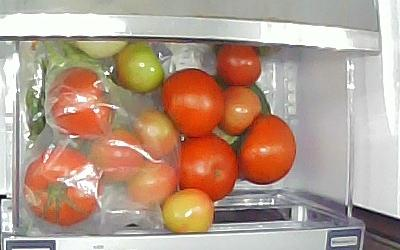tomato: (161, 68, 225, 138), (172, 136, 238, 202), (240, 115, 295, 186), (114, 41, 164, 94), (162, 188, 213, 233), (218, 87, 262, 137), (216, 45, 261, 86)
tomato_vinyl: (24, 146, 100, 226), (48, 66, 115, 137), (90, 129, 144, 181), (134, 110, 178, 159), (129, 160, 177, 204)
